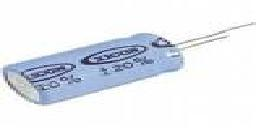Electrolytic-Capacitor: (2, 15, 256, 105)
